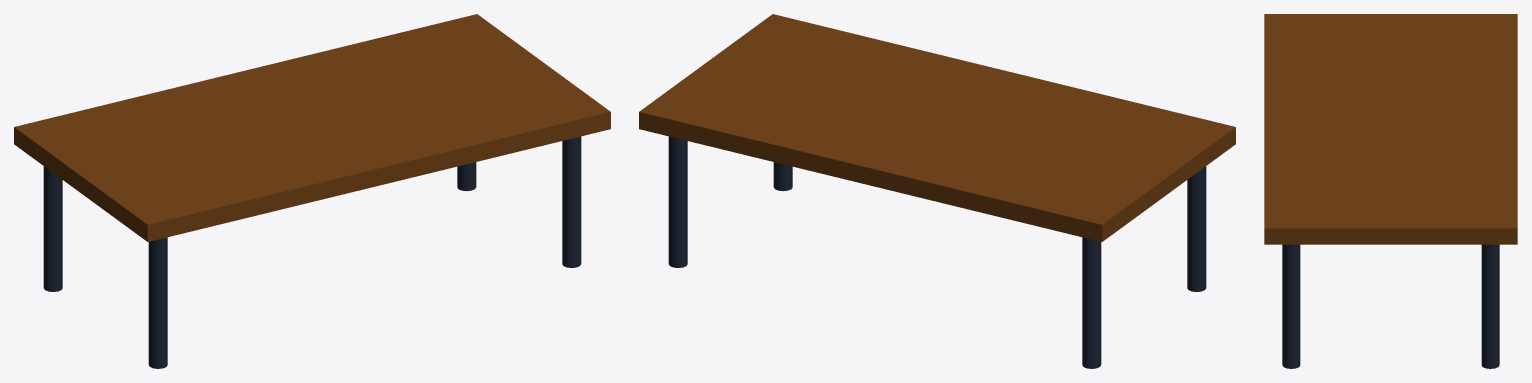
File: desk.glb
3 views of the same model, side by side, from view 1: azimuth 30°, elevation 25°; view 2: azimuth 150°, elevation 25°; view 3: azimuth 270°, elevation 25° (orthographic). The views are drawn at different scales.
Bounding box in the file's own units: 2.8 × 0.905 × 1.4.
